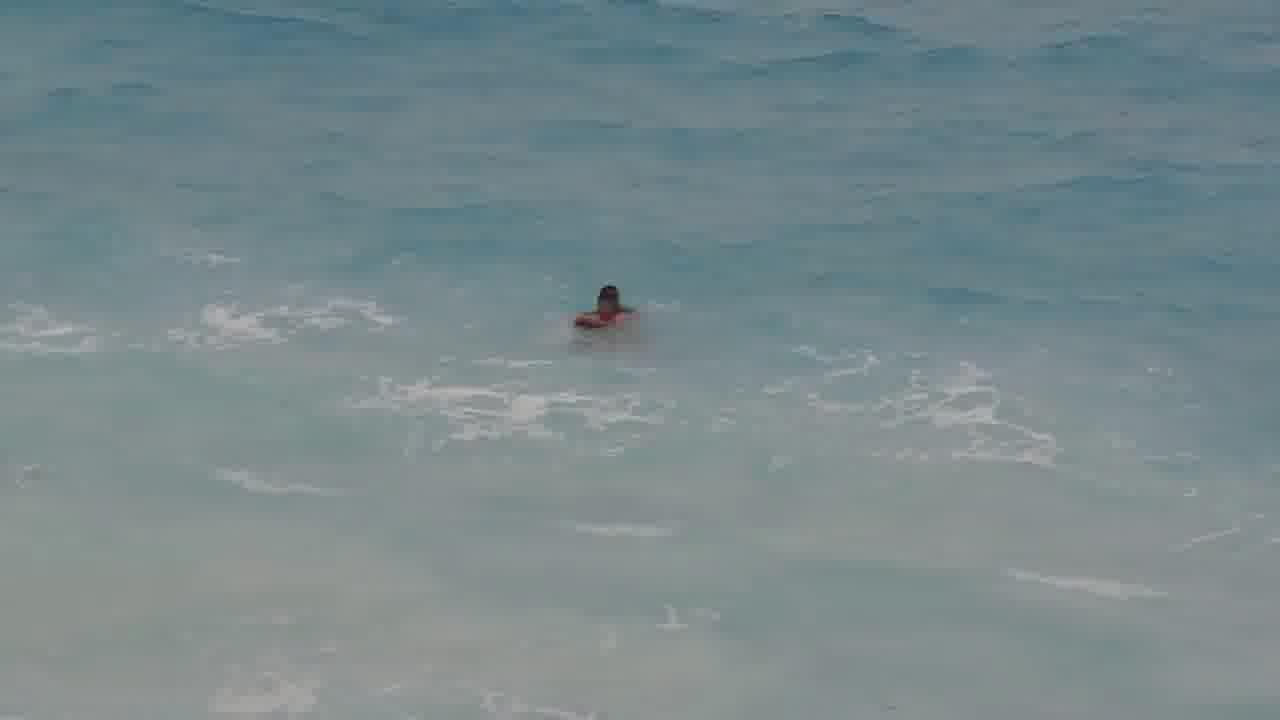swimmer: (580, 281, 635, 329)
